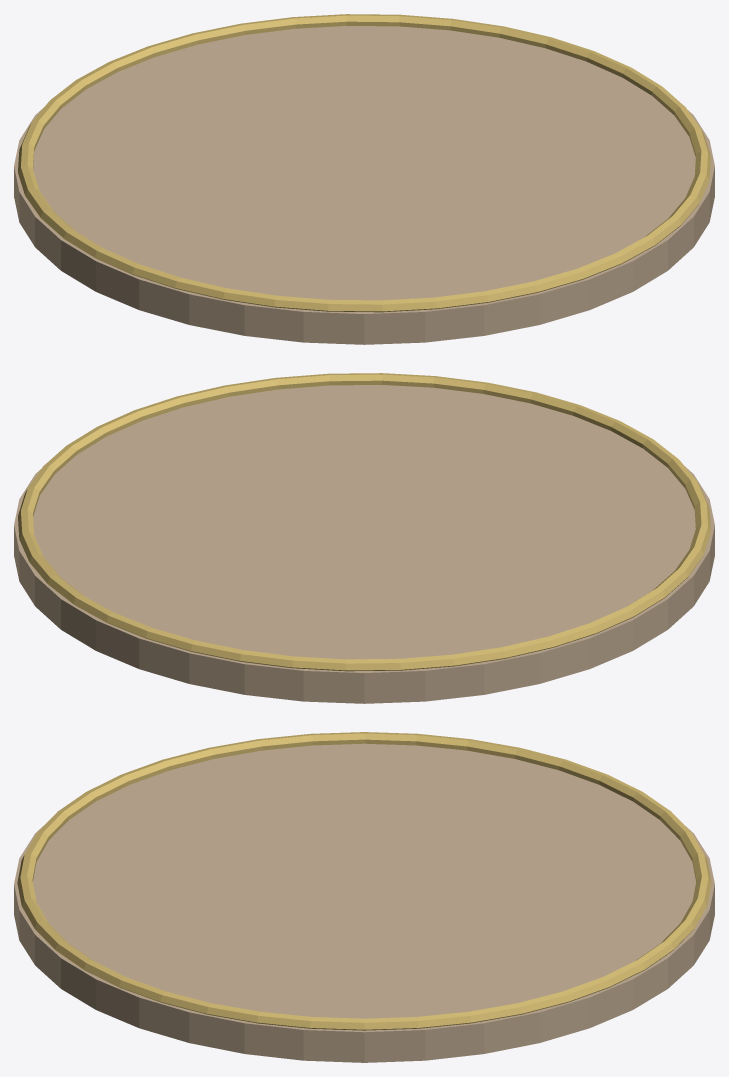
Rendered from table.glb.
The picture shows the model from 3 angles, top to bottom: view 1: azimuth 30°, elevation 25°; view 2: azimuth 150°, elevation 25°; view 3: azimuth 270°, elevation 25°; orthographic projection.
Visible parts, largest first — view 1: table; view 2: table; view 3: table.
Part boxes in pixels (x1,y1,x2,y2): table: (14,14,714,344); table: (14,373,714,703); table: (14,732,714,1062).
Bounding box in the file's own units: 6.2 × 1.14 × 6.2.
